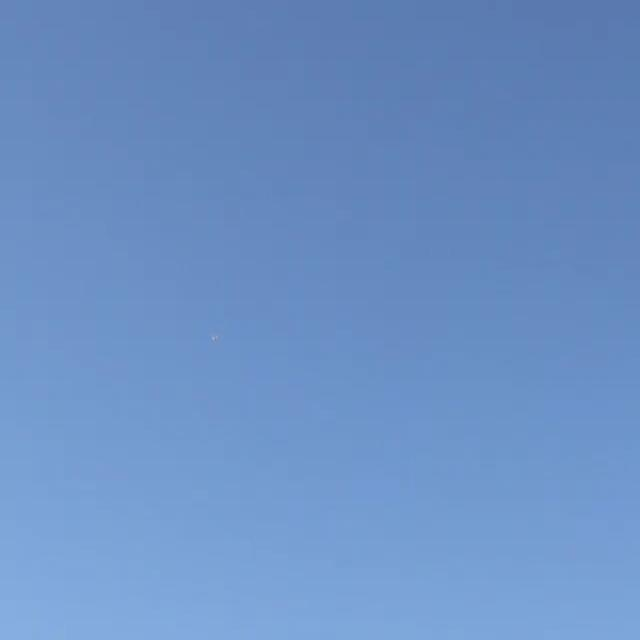AirPlane: (200, 324, 229, 352)
